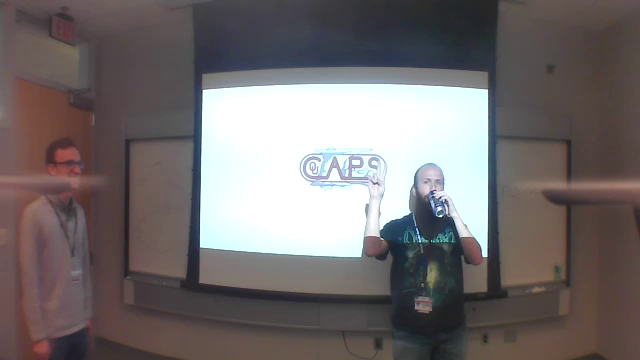peace: (363, 160, 393, 198)
